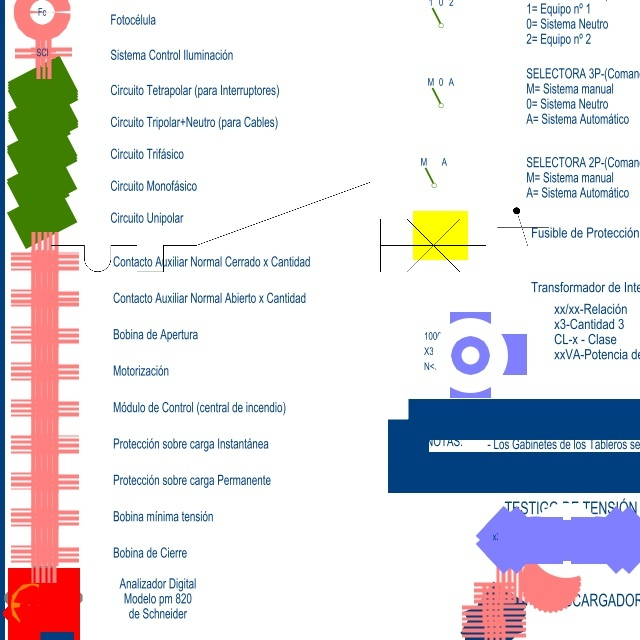interruptor_termomagnetico: (40, 171, 497, 283)
